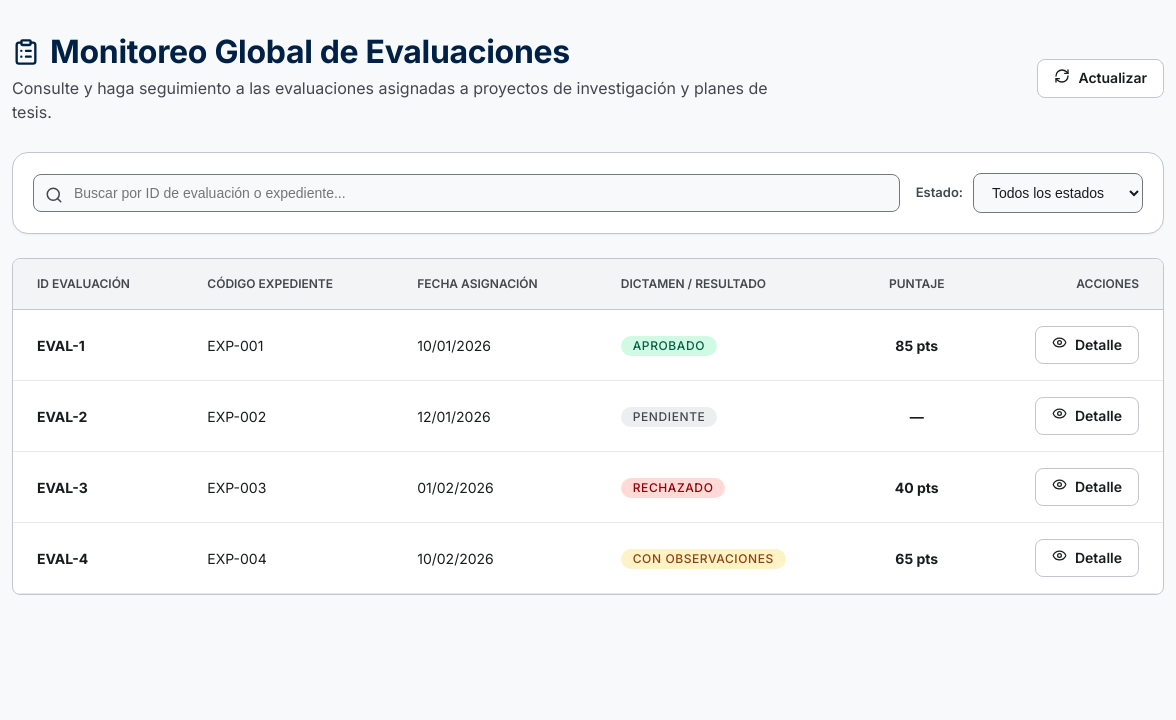
Test: DirectorEvaluations › resets to all when selecting empty status
Check: the text "EXP-001" is shown, box x1=183 y1=310 x2=393 y2=380
Select "Aprobados" in the dropdown: (1058, 193) x1=973 y1=173 x2=1143 y2=213
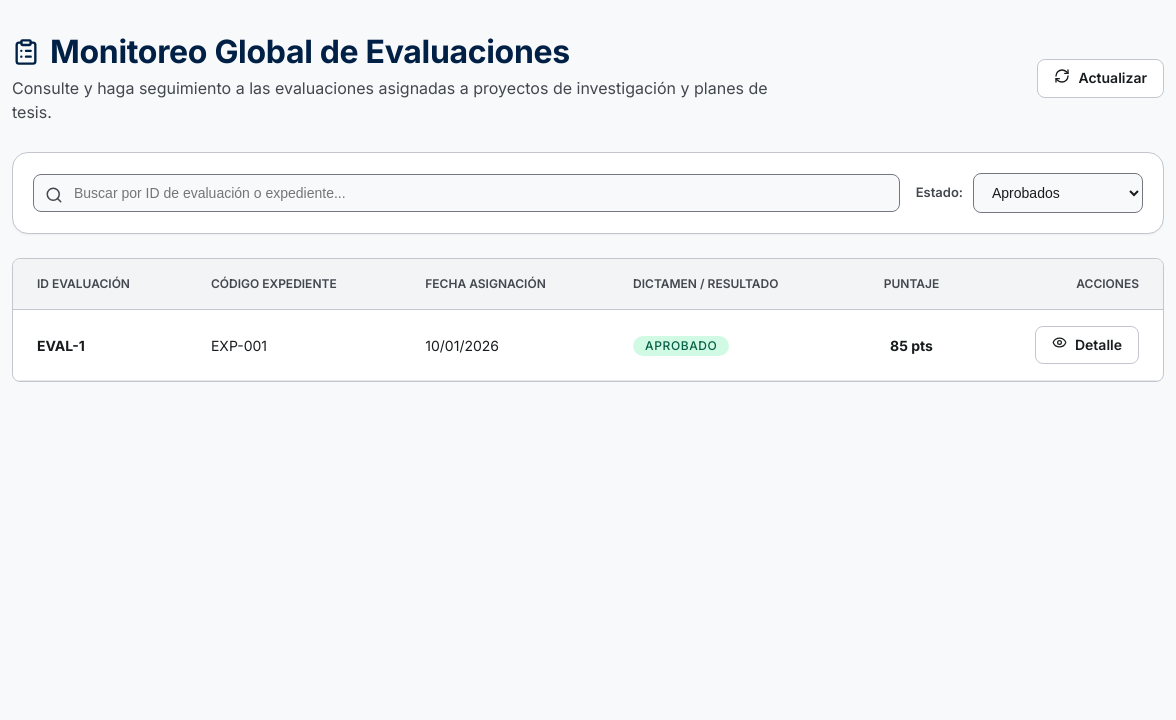
Check: the text "EXP-002" is gone
Select "Todos los estados" in the dropdown: (1058, 193) x1=973 y1=173 x2=1143 y2=213
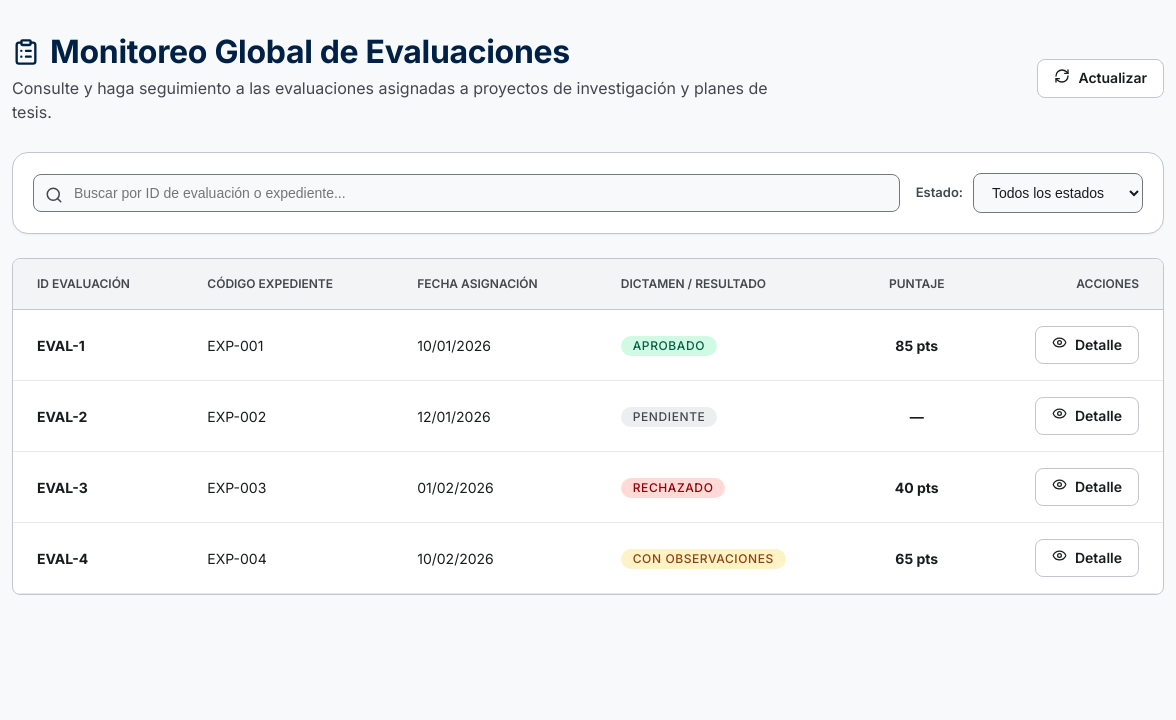
Check: the text "EXP-002" is shown, box x1=183 y1=380 x2=393 y2=452
